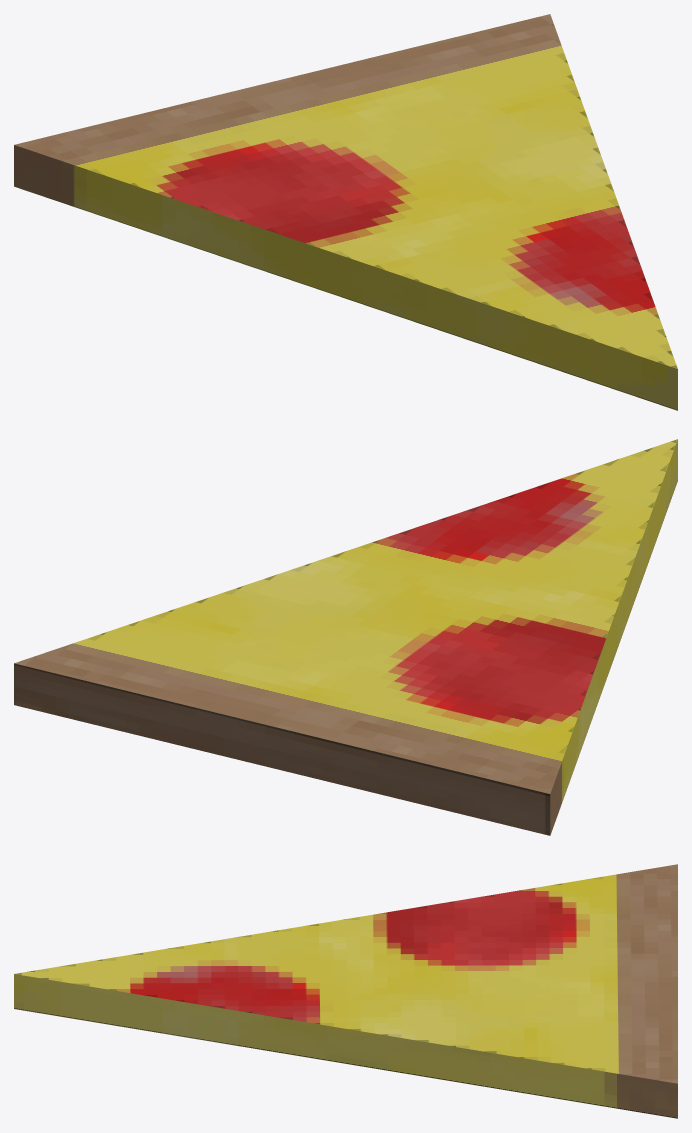
The model's file is SM_PizzaSlice.fbx.
3 renders of one model, top to bottom at view 1: azimuth 30°, elevation 25°; view 2: azimuth 150°, elevation 25°; view 3: azimuth 270°, elevation 25°, orthographic. The views are drawn at different scales.
Parts seen in each view (by area): view 1: SM_PizzaSlice; view 2: SM_PizzaSlice; view 3: SM_PizzaSlice.
Part boxes in pixels (box(x1,y1,x2,y2)): SM_PizzaSlice: box(14, 14, 677, 410); SM_PizzaSlice: box(14, 439, 677, 835); SM_PizzaSlice: box(14, 864, 677, 1118).
Size of the model in its own units: 20.74 by 1.54 by 26.52.
1 material, 1 textured.
